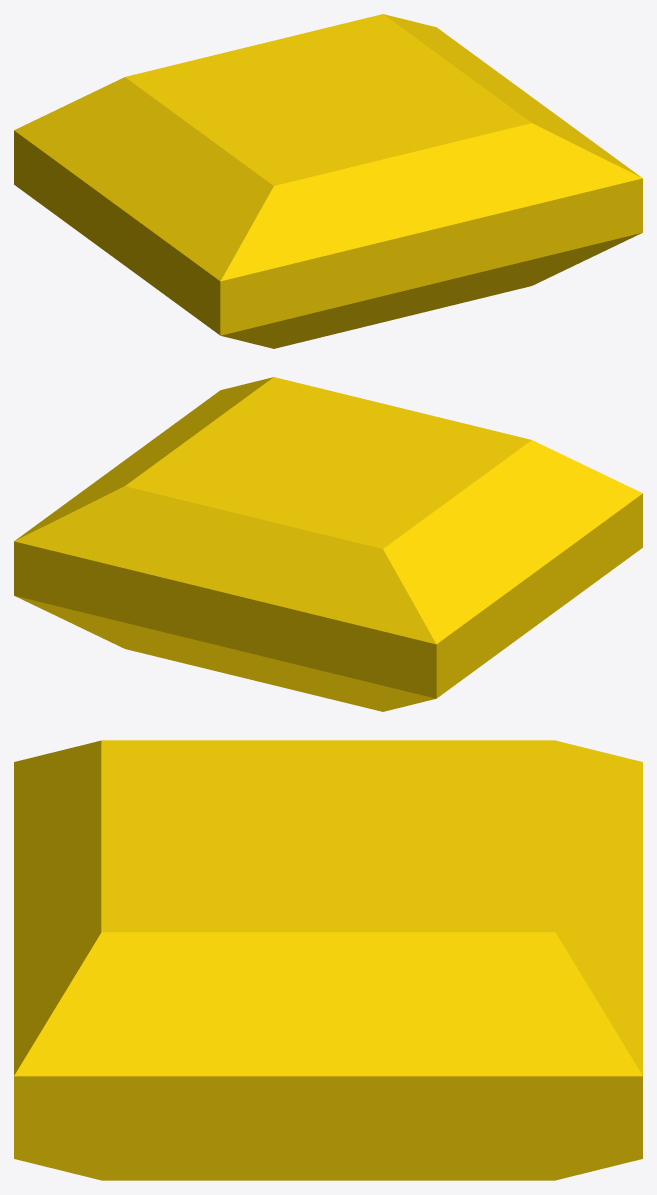
File: Topaz.fbx
The picture shows the model from 3 angles, top to bottom: view 1: azimuth 30°, elevation 25°; view 2: azimuth 150°, elevation 25°; view 3: azimuth 270°, elevation 25°; orthographic projection. The views are drawn at different scales.
Parts seen in each view (by area): view 1: Topaz; view 2: Topaz; view 3: Topaz.
Boxes of the visible parts, x1,y1,x2,y2 form: Topaz: (14, 14, 642, 348); Topaz: (14, 377, 642, 711); Topaz: (14, 740, 642, 1180).
Size of the model in its own units: 164 by 60.3 by 139.
